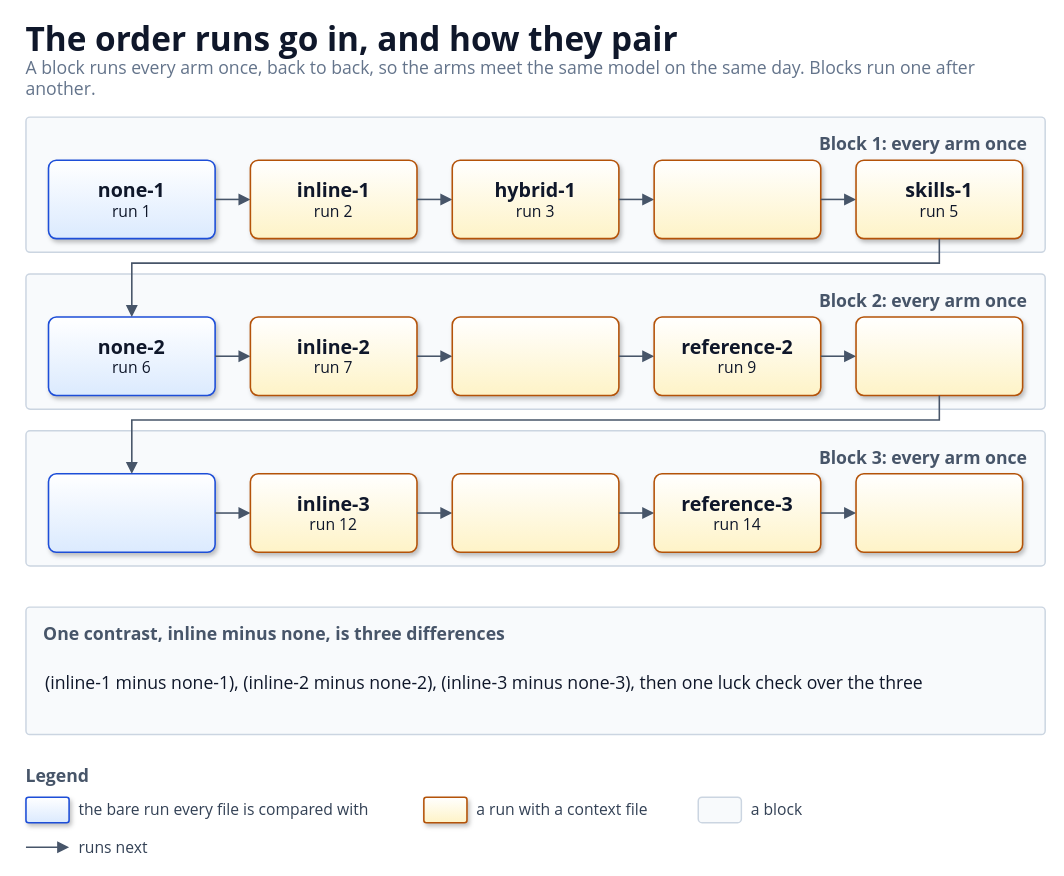
The diagram is 1064 pixels wide and 876 high, and some of its shapes have lost their labels. The centre of each missing label's shape, as x and y in pixels:
"hybrid-2 run 8" belongs at pixel 536 357.
"hybrid-3 run 13" belongs at pixel 536 514.
"none-3 run 11" belongs at pixel 132 514.
"reference-1 run 4" belongs at pixel 738 200.
"skills-2 run 10" belongs at pixel 940 357.
"skills-3 run 15" belongs at pixel 940 514.
